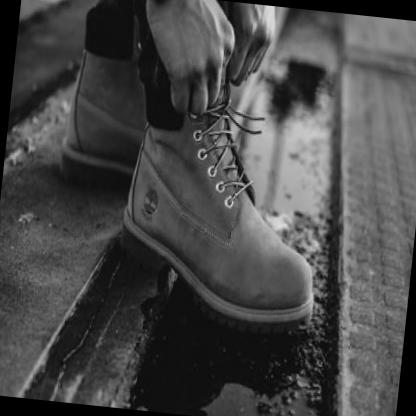ankle: (165, 151, 174, 162), (88, 96, 95, 107)
heel: (124, 234, 133, 245), (62, 167, 69, 174)
left_foot: (114, 110, 331, 340)
pinky: (273, 293, 280, 302), (124, 133, 129, 137)
right_foot: (56, 4, 150, 195)
toe: (300, 270, 309, 281), (119, 161, 126, 168)
